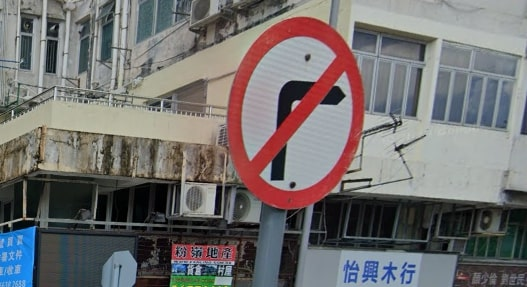No Turn Right: (224, 15, 367, 205)
